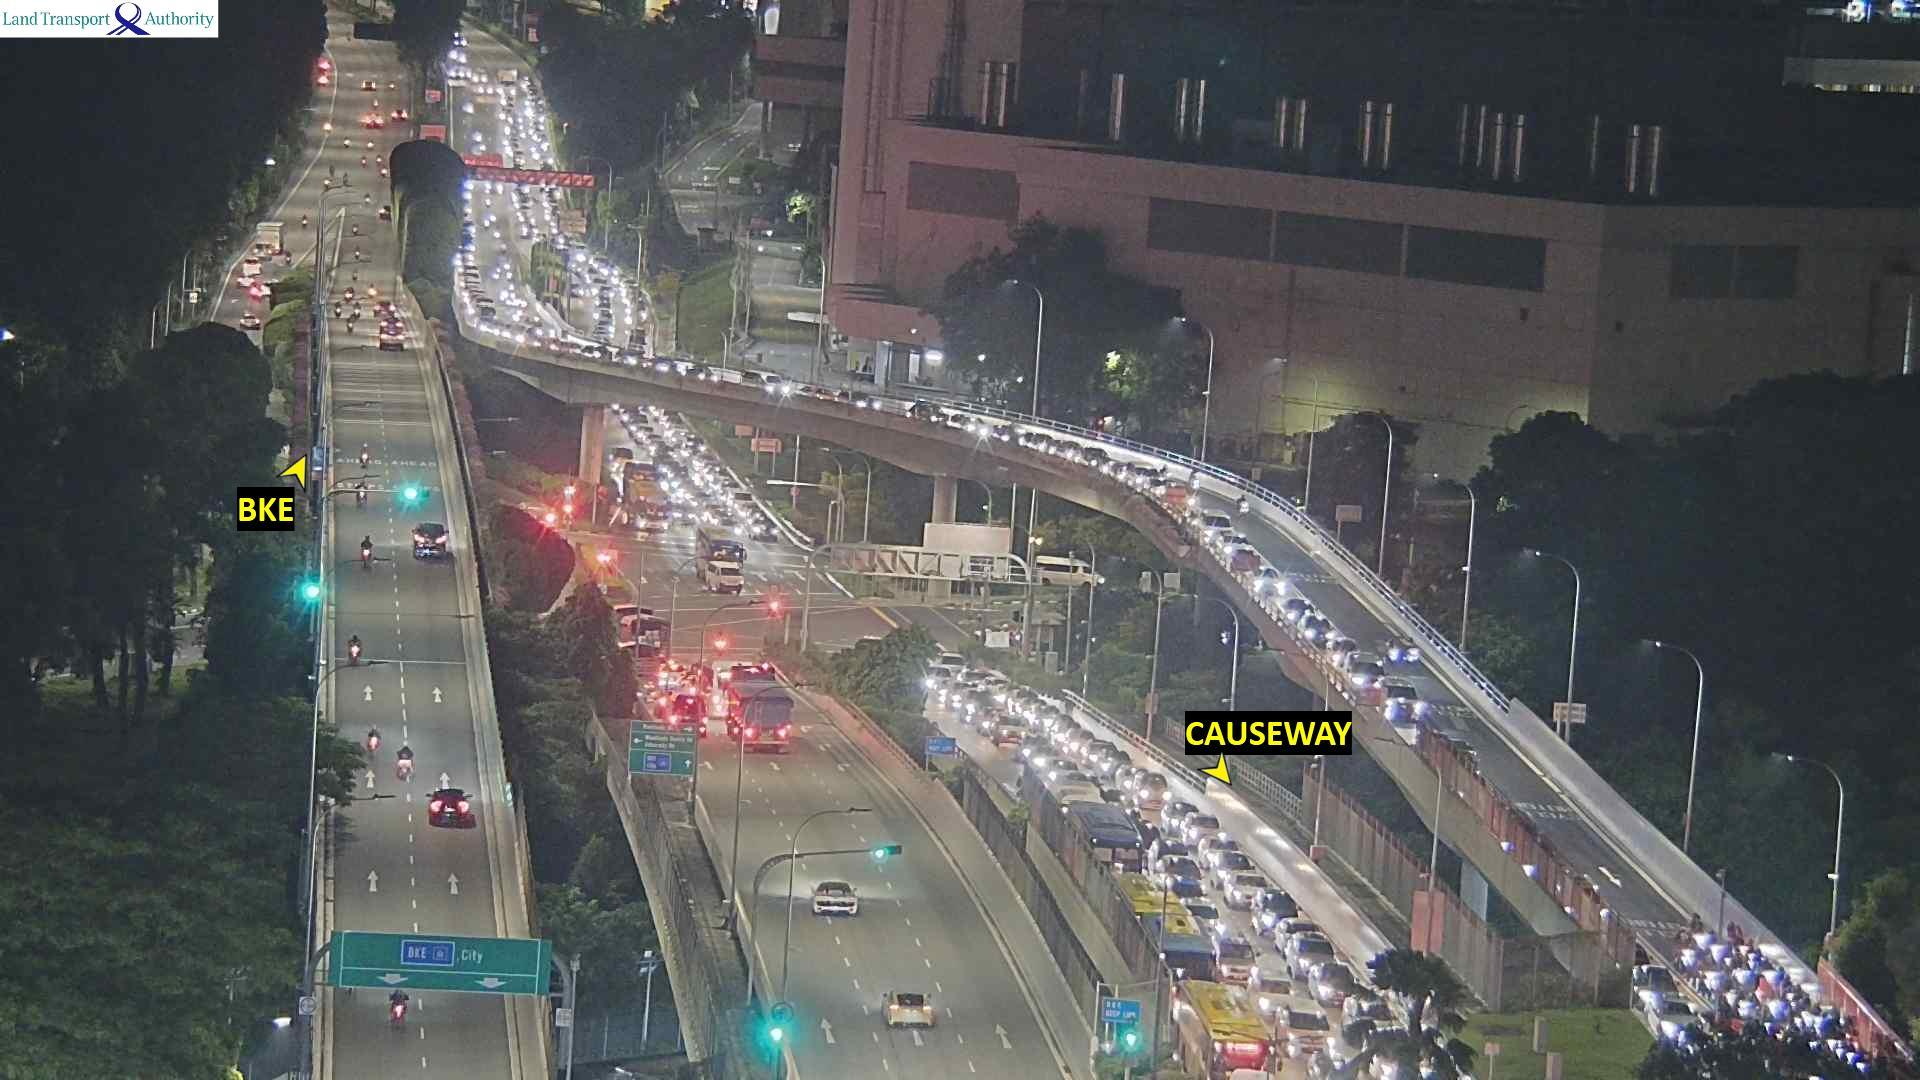vehicle-causeway-johor: (1104, 872, 1216, 977), (1180, 982, 1274, 1076), (1058, 802, 1143, 870), (1276, 998, 1331, 1050), (1209, 927, 1255, 981), (1253, 889, 1299, 934), (1286, 934, 1335, 976), (1247, 968, 1291, 1011), (1377, 676, 1420, 720), (1309, 961, 1356, 1001), (1225, 874, 1271, 910), (1212, 853, 1255, 885), (1156, 856, 1200, 886), (1345, 651, 1382, 687), (1273, 919, 1315, 949), (1199, 839, 1241, 869), (1183, 814, 1222, 845), (1147, 839, 1189, 866), (1134, 774, 1168, 807), (1175, 901, 1220, 926), (1162, 803, 1200, 831), (1298, 616, 1332, 645), (994, 717, 1033, 742), (1127, 464, 1171, 485), (1386, 636, 1422, 661), (1201, 509, 1232, 535), (1327, 640, 1358, 665), (583, 345, 620, 367), (757, 375, 793, 396), (1168, 878, 1204, 899), (1026, 758, 1075, 773), (909, 404, 947, 422), (1282, 599, 1315, 620), (977, 711, 1011, 731), (960, 703, 1002, 719), (945, 684, 973, 708), (1065, 731, 1096, 752), (1254, 578, 1286, 597), (1044, 771, 1088, 785), (1023, 704, 1056, 721), (1216, 534, 1246, 553), (1229, 1068, 1275, 1080), (952, 414, 984, 431), (516, 328, 542, 348), (1035, 713, 1065, 731), (848, 394, 884, 409), (546, 339, 582, 353), (1121, 775, 1149, 793), (1050, 723, 1077, 740), (1017, 745, 1056, 757), (752, 520, 775, 539), (1102, 757, 1131, 773), (1085, 745, 1117, 760), (964, 671, 993, 687), (1079, 448, 1108, 464), (928, 667, 951, 687), (993, 688, 1025, 702), (816, 389, 848, 402), (695, 497, 719, 514), (1006, 691, 1034, 705), (1014, 699, 1044, 712), (641, 360, 671, 373), (982, 678, 1011, 691), (1055, 442, 1081, 456), (658, 452, 684, 467), (994, 425, 1018, 440), (501, 124, 525, 140), (708, 506, 728, 525), (475, 311, 496, 328), (452, 266, 479, 280), (688, 368, 717, 380), (455, 273, 479, 287), (484, 320, 504, 338), (667, 469, 692, 483), (724, 518, 741, 537), (512, 310, 531, 326), (1033, 435, 1054, 450), (634, 427, 659, 439), (465, 298, 488, 311), (675, 481, 703, 492), (1047, 440, 1067, 455), (621, 352, 641, 367), (460, 290, 484, 302), (480, 182, 504, 194), (456, 282, 483, 293), (733, 497, 754, 510), (650, 443, 671, 456), (1019, 431, 1038, 446), (794, 384, 816, 396), (496, 69, 521, 79), (505, 297, 526, 309), (468, 306, 487, 319), (628, 421, 650, 431), (496, 247, 512, 261), (498, 290, 517, 302), (1238, 495, 1249, 514), (502, 328, 516, 344), (663, 463, 683, 473), (642, 435, 662, 446), (456, 243, 479, 252), (496, 260, 510, 273), (534, 132, 549, 145), (472, 73, 492, 82), (510, 199, 530, 208), (530, 120, 547, 131), (686, 491, 703, 501), (518, 212, 535, 223), (615, 276, 626, 290), (475, 86, 493, 95), (505, 142, 521, 153), (543, 189, 559, 199), (495, 273, 514, 281), (456, 253, 476, 261), (527, 109, 542, 120), (524, 229, 538, 240), (455, 261, 477, 268), (463, 102, 473, 115), (533, 152, 546, 162), (510, 189, 527, 195), (624, 295, 630, 313), (462, 190, 472, 200), (522, 79, 531, 90), (473, 132, 481, 144), (525, 100, 538, 107), (506, 282, 516, 291), (543, 202, 551, 212), (512, 158, 526, 164), (506, 116, 516, 124), (542, 215, 551, 223), (484, 220, 491, 231), (579, 253, 585, 264), (493, 231, 501, 239), (603, 268, 609, 277), (491, 215, 497, 223), (551, 228, 558, 236), (592, 257, 597, 266)
vehicle-causeway-singapore: (728, 683, 791, 754), (702, 661, 753, 716), (881, 989, 931, 1030), (430, 787, 473, 831), (814, 881, 861, 916), (667, 698, 708, 735), (415, 526, 451, 555), (396, 993, 417, 1023), (397, 742, 413, 777), (380, 334, 404, 351), (380, 319, 404, 334), (375, 301, 394, 316), (361, 535, 372, 564), (356, 481, 367, 505), (349, 636, 359, 662), (360, 442, 369, 465), (368, 727, 377, 749), (344, 287, 353, 299), (351, 223, 360, 235), (353, 302, 360, 318), (336, 301, 342, 319), (369, 284, 376, 298), (347, 319, 352, 334), (352, 269, 359, 280), (353, 247, 360, 257)
